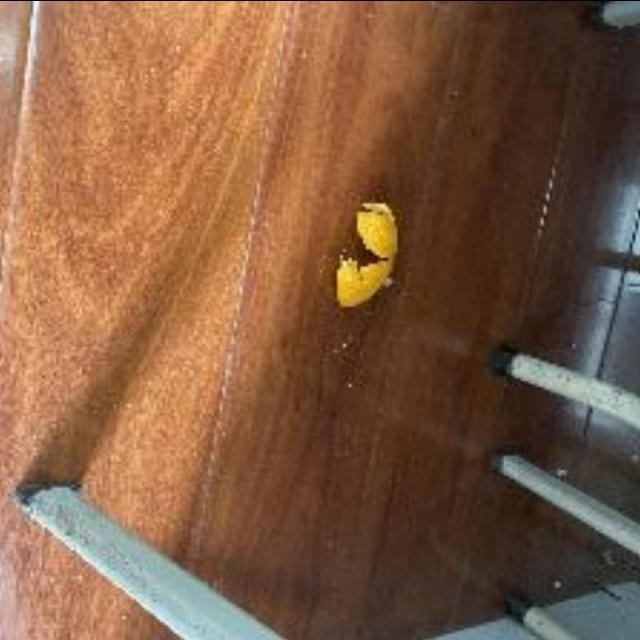orange peel: (328, 190, 402, 314)
